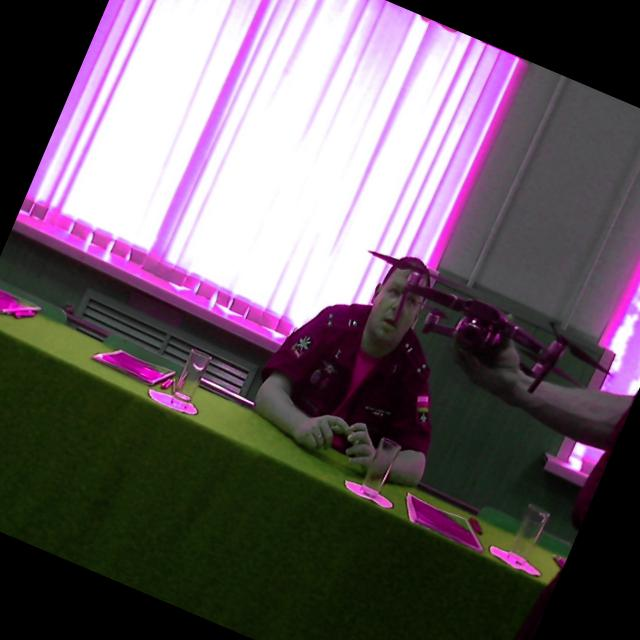drone: (352, 222, 616, 423)
